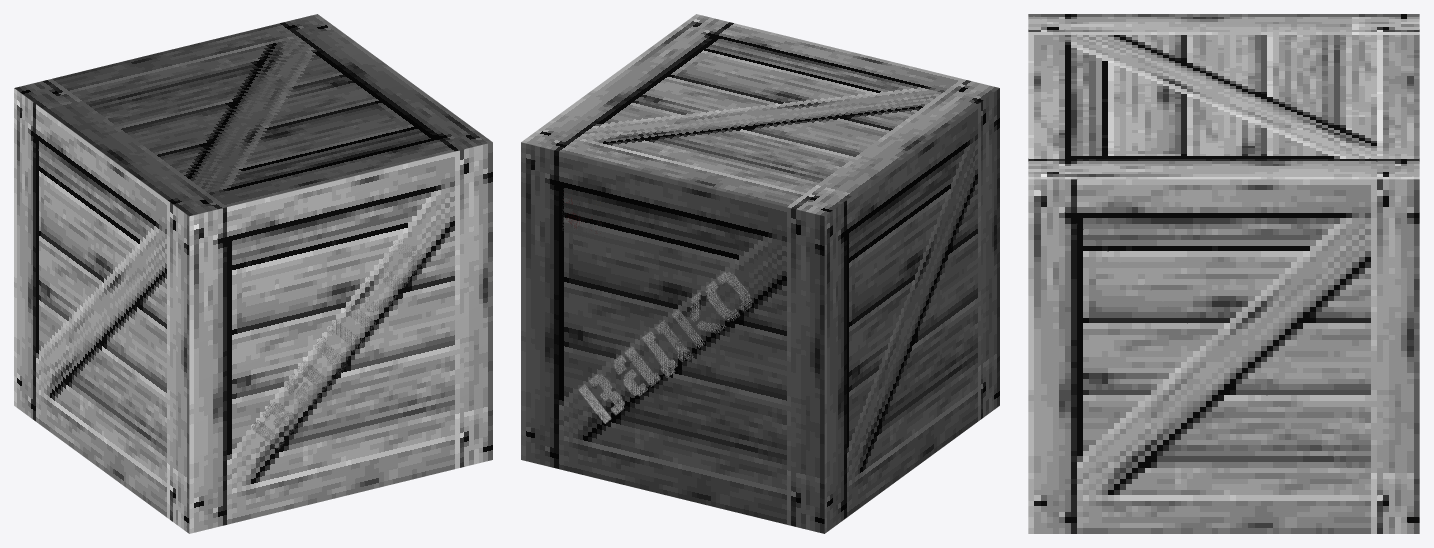
The model's file is Pwood_sm_crate4Z.obj.
3 renders of one model, left to right at view 1: azimuth 30°, elevation 25°; view 2: azimuth 150°, elevation 25°; view 3: azimuth 270°, elevation 25°, orthographic. The views are drawn at different scales.
Bounding box in the file's own units: 840 × 840 × 840.
3 materials, 3 textured.
